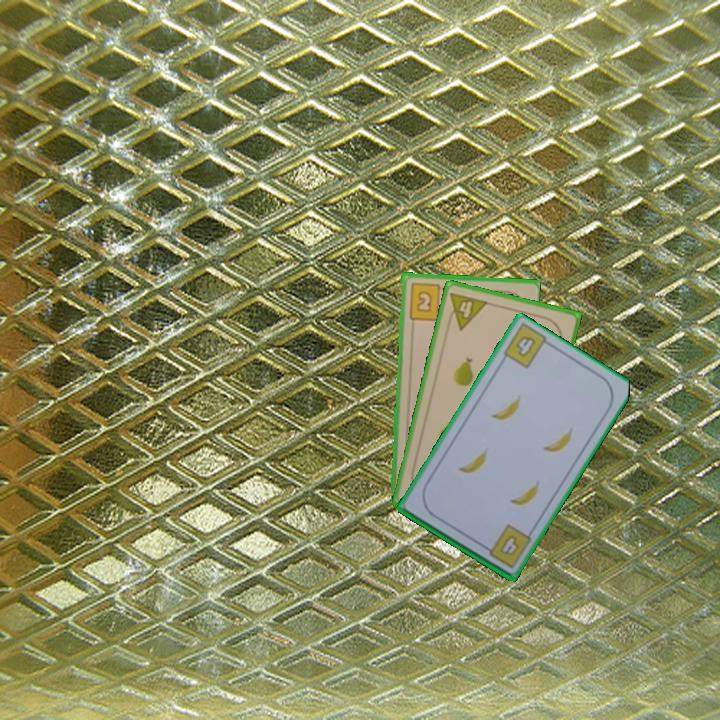2b: (405, 279, 449, 323)
4b: (479, 521, 534, 571), (512, 332, 539, 360)
4p: (443, 288, 491, 333)
